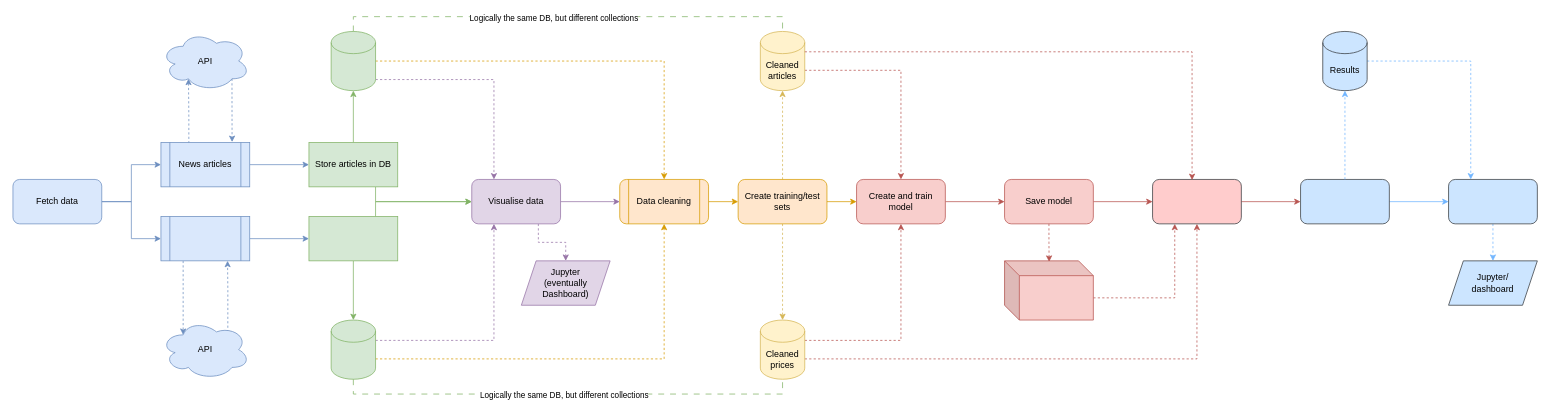
This 1550x412 diagram has some shape labels left out. Here are the shapes that lost their labels. From the top down, the centre of each, then its label:
At point (353, 61): "Raw articles".
At point (1196, 201): "Load and run model".
At point (1344, 201): "Save results".
At point (1492, 201): "Display results".
At point (205, 238): "Stock prices".
At point (353, 238): "Store prices in DB".
At point (1048, 290): "Trained model".
At point (353, 349): "Raw prices".
